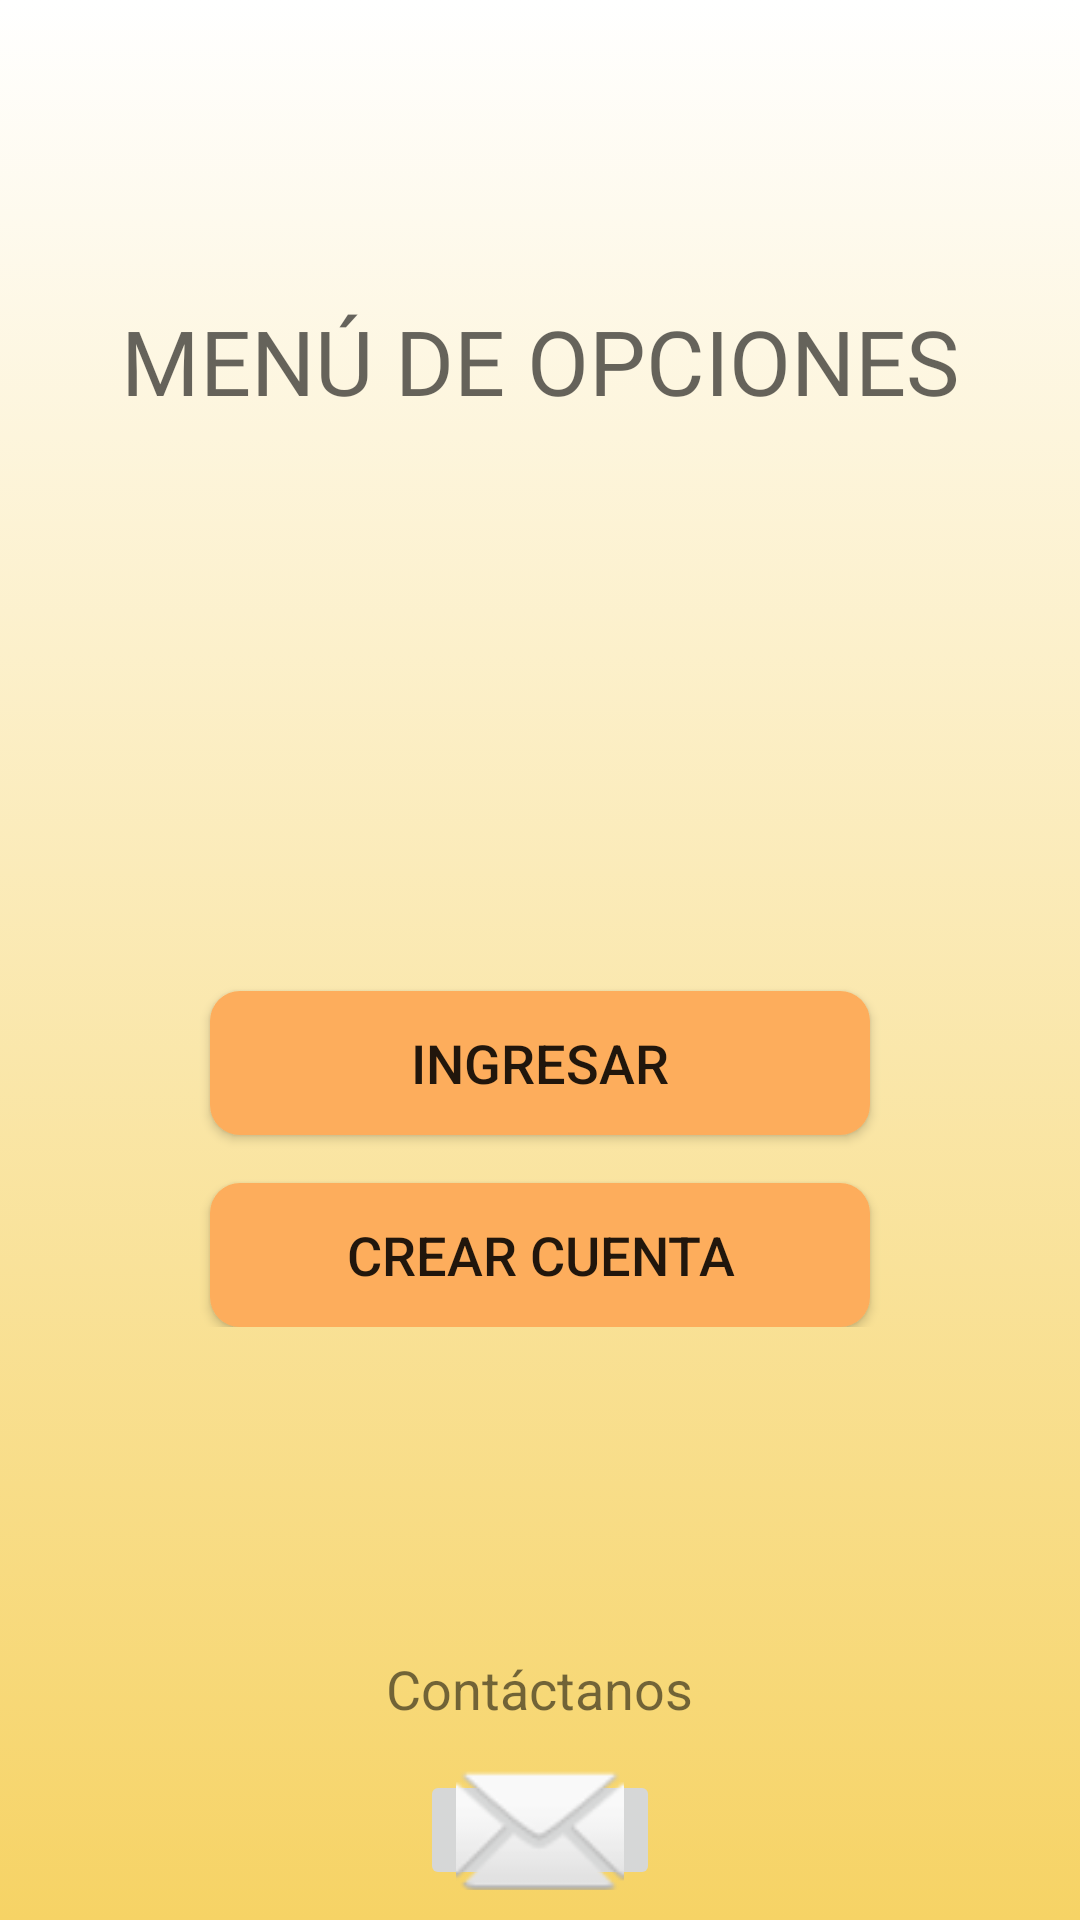

Icon bounding boxes for this 1080*1920 phone screenshot, format bbox=[x1, y1, x2, y2]:
email: bbox=[432, 1772, 648, 1890]
